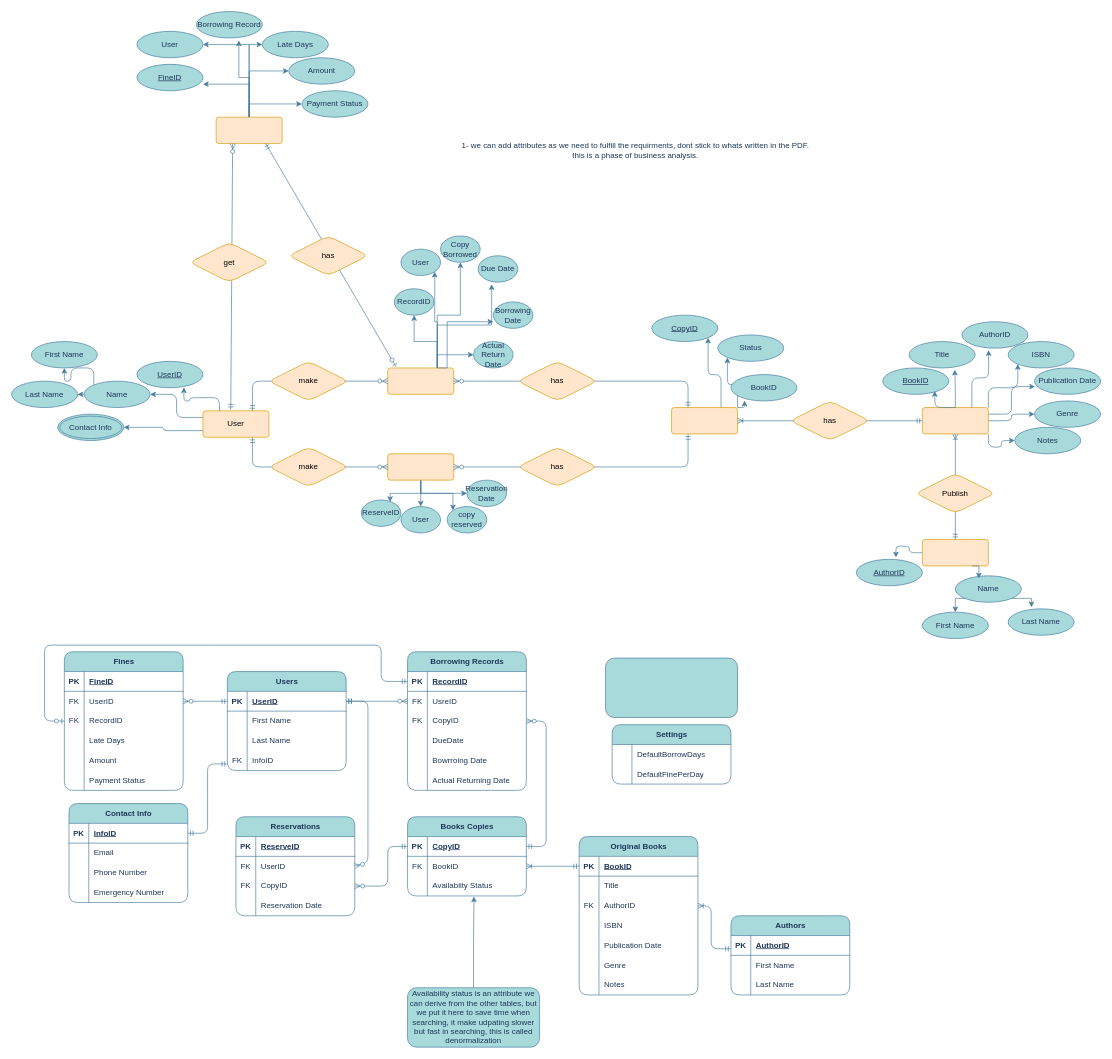
The diagram is 1112 pixels wide and 1059 high, and some of its shapes have lost their labels. The centre of each missing label's shape, as x and y in pixels:
Author: point 955,552
Book Copy: point 704,420
BorrowingRecord: point 420,380
Fine: point 248,130
Original Book: point 955,420
Reservation: point 420,466
this table is for default values of fines and borrowing due date calcuations: point 671,687
